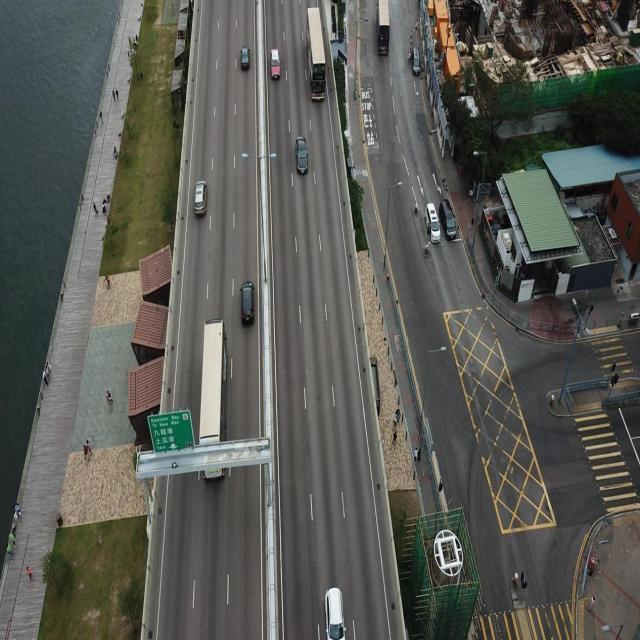p3rson: (585, 591, 596, 614), (24, 563, 34, 586), (392, 403, 402, 422), (389, 426, 397, 448), (13, 500, 22, 518), (4, 543, 12, 561), (92, 196, 98, 216), (85, 439, 93, 454), (412, 443, 418, 462), (8, 531, 15, 546), (114, 84, 119, 102), (110, 87, 116, 102), (105, 270, 110, 288), (82, 442, 87, 460), (107, 390, 113, 404), (417, 445, 421, 466), (101, 197, 106, 213), (46, 360, 52, 373), (12, 509, 18, 522), (138, 66, 143, 81), (41, 368, 46, 383), (127, 34, 132, 49), (111, 144, 118, 154), (105, 388, 109, 404), (46, 365, 50, 379), (407, 49, 411, 62), (134, 32, 138, 44), (126, 46, 130, 57), (132, 46, 136, 57)
